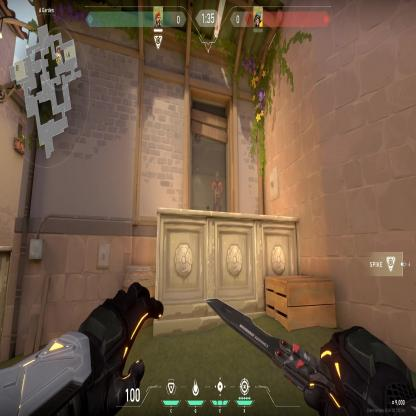enemy: (212, 169, 223, 213)
